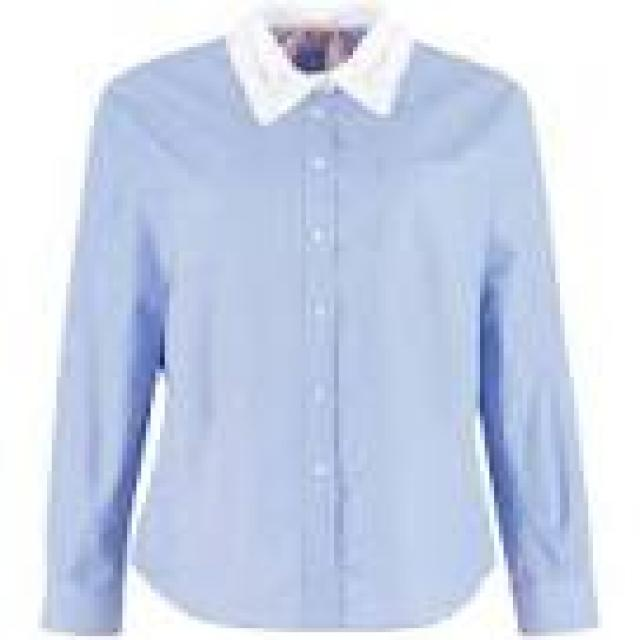plain: (40, 12, 608, 638)
